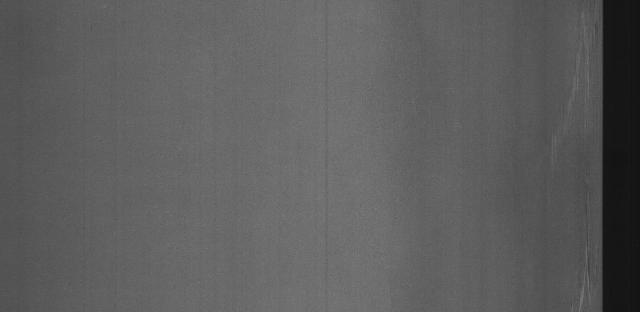silk_spot: (545, 12, 597, 143), (565, 179, 598, 311)
